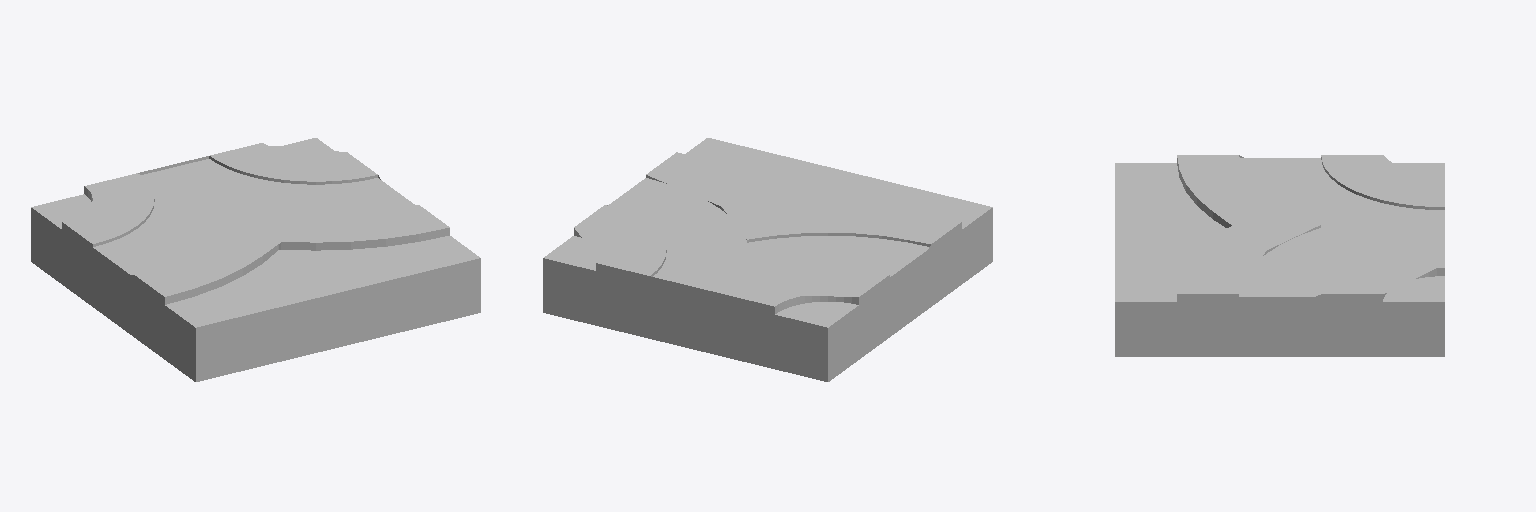
File: roadTile_148.obj
The picture shows the model from 3 angles: view 1: azimuth 30°, elevation 25°; view 2: azimuth 150°, elevation 25°; view 3: azimuth 270°, elevation 25°; orthographic projection.
Parts seen in each view (by area): view 1: Mesh1_Group1_Model.005; view 2: Mesh1_Group1_Model.005; view 3: Mesh1_Group1_Model.005.
Part boxes in pixels (x1,y1,x2,y2): Mesh1_Group1_Model.005: (31,138,480,381); Mesh1_Group1_Model.005: (543,138,992,381); Mesh1_Group1_Model.005: (1115,155,1444,356).
Size of the model in its own units: 1.08 by 0.2268 by 1.08.